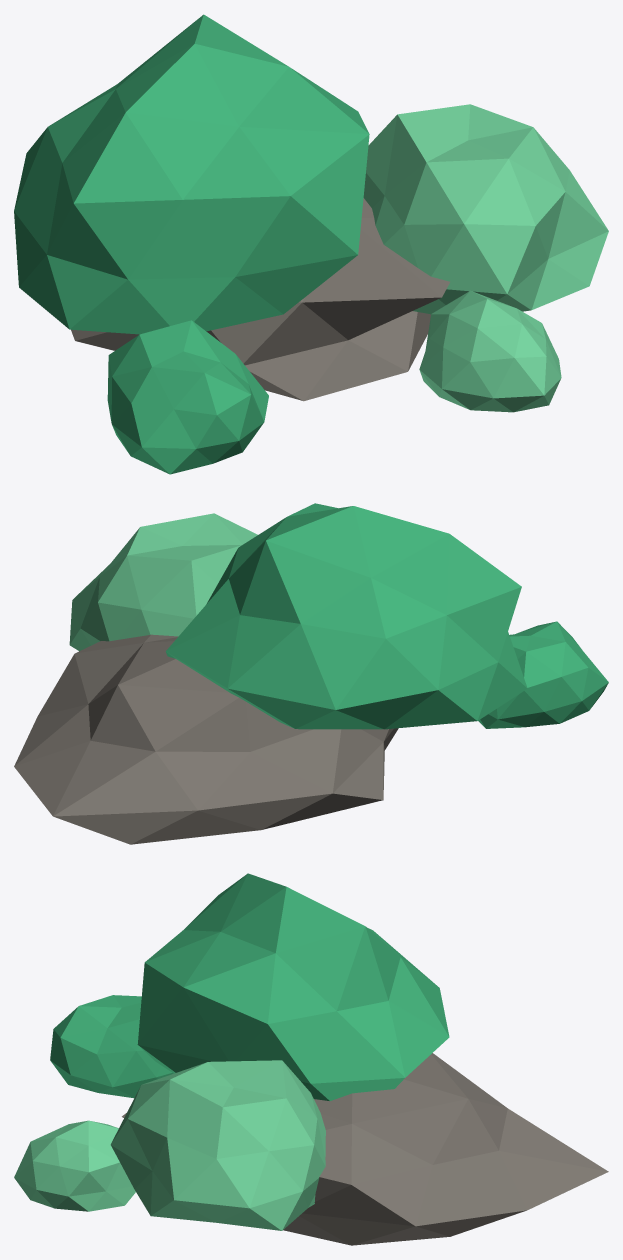
Rendered from resource_jade.fbx.
The picture shows the model from 3 angles, top to bottom: view 1: azimuth 30°, elevation 25°; view 2: azimuth 150°, elevation 25°; view 3: azimuth 270°, elevation 25°; orthographic projection. The views are drawn at different scales.
Parts seen in each view (by area): view 1: resource_jade_jade_01, resource_jade_jade2_02, resource_jade_rock#7a756e_00; view 2: resource_jade_jade_01, resource_jade_rock#7a756e_00, resource_jade_jade2_02; view 3: resource_jade_jade_01, resource_jade_jade2_02, resource_jade_rock#7a756e_00.
Part boxes in pixels (x1,y1,x2,y2): resource_jade_jade_01: [14, 14, 369, 474]; resource_jade_jade2_02: [363, 104, 608, 412]; resource_jade_rock#7a756e_00: [71, 198, 449, 401]; resource_jade_jade_01: [165, 503, 608, 729]; resource_jade_rock#7a756e_00: [14, 634, 398, 844]; resource_jade_jade2_02: [69, 513, 257, 651]; resource_jade_jade_01: [50, 873, 449, 1100]; resource_jade_jade2_02: [14, 1060, 325, 1230]; resource_jade_rock#7a756e_00: [122, 1053, 608, 1245].
Bounding box in the file's own units: 77.26 × 41.66 × 90.22.
